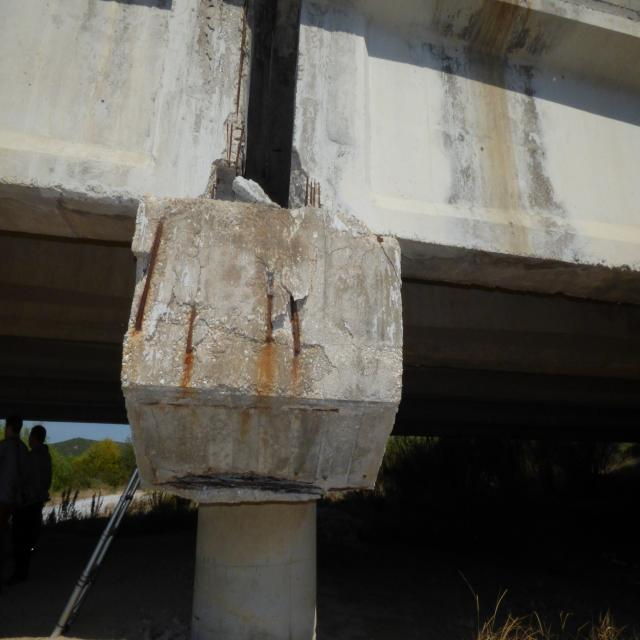corrosion: (132, 205, 342, 430), (144, 462, 364, 558), (461, 0, 540, 248), (209, 0, 256, 201), (296, 173, 326, 214)
